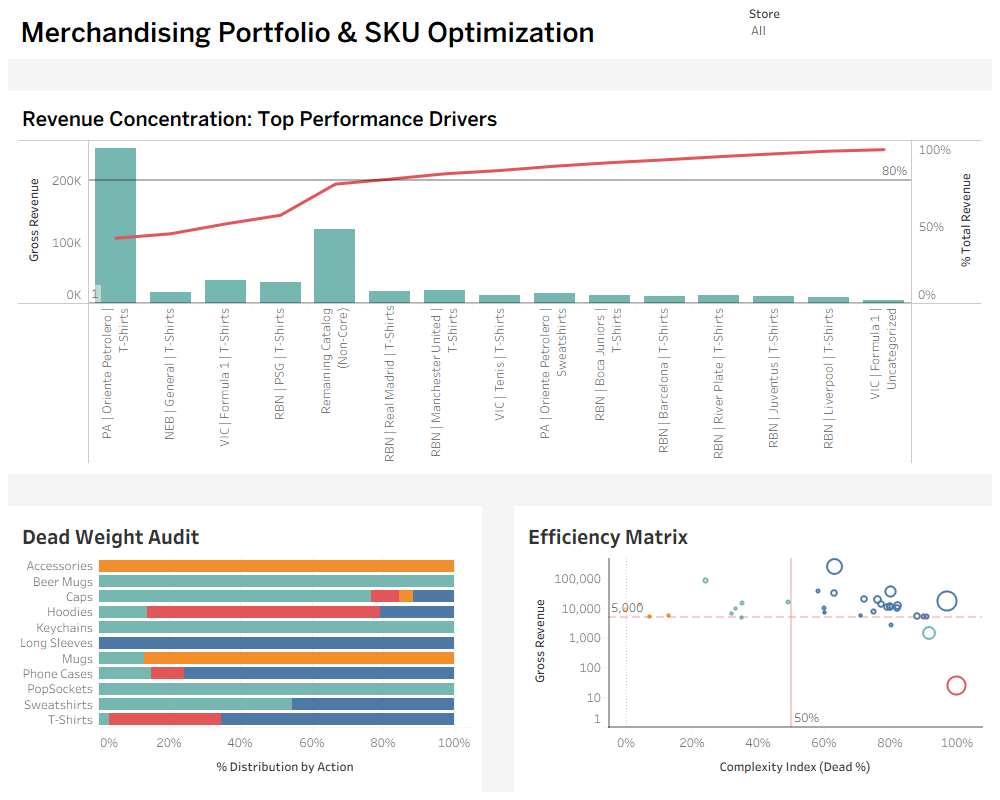

What the dashboard file says about the page in this screenshot:
{"tool":"tableau","page":{"name":"Dashboard 1","canvas":[1000,800],"ordinal":0},"visuals":[{"type":"filter","title":"Dead Weight Audit","param":"[federated.17nnk56140ynxn16kdbtr074cryt].[none:store_code:nk]","box":[749,4,179,51]},{"type":"text","box":[8,8,984,51]},{"type":"blank","box":[8,59,984,32]},{"type":"worksheet","title":"Product Style Pareto: Revenue Concentration","mark":"Bar","rows":["Calculation_1123740464599041"],"cols":["pareto_group"],"box":[8,91,984,383]},{"type":"blank","box":[8,474,984,32]},{"type":"worksheet","title":"Dead Weight Audit","mark":"Automatic","rows":["std_category"],"box":[8,506,474,286]},{"type":"blank","box":[482,506,32,286]},{"type":"worksheet","title":"Efficiency Matrix","mark":"Automatic","rows":["total_style_revenue"],"cols":["dead_variant_ratio"],"box":[514,506,478,286]}]}

Visuals, with their boxes in screenshot pixels (x1, y1, x2, y2), scaled from the page's 1000x800 canvas onto the 1000x800 screenshot:
"Dead Weight Audit" filter: 749 4 928 55
text: 8 8 992 59
blank: 8 59 992 91
"Product Style Pareto: Revenue Concentration" worksheet (Bar marks): 8 91 992 474
blank: 8 474 992 506
"Dead Weight Audit" worksheet: 8 506 482 792
blank: 482 506 514 792
"Efficiency Matrix" worksheet: 514 506 992 792
